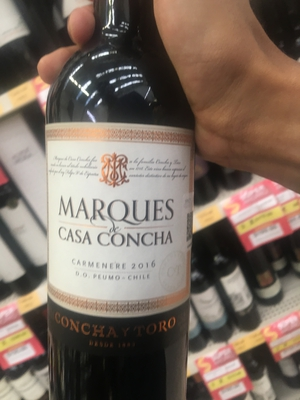marques de casa concha carmenere: (45, 18, 223, 386)
